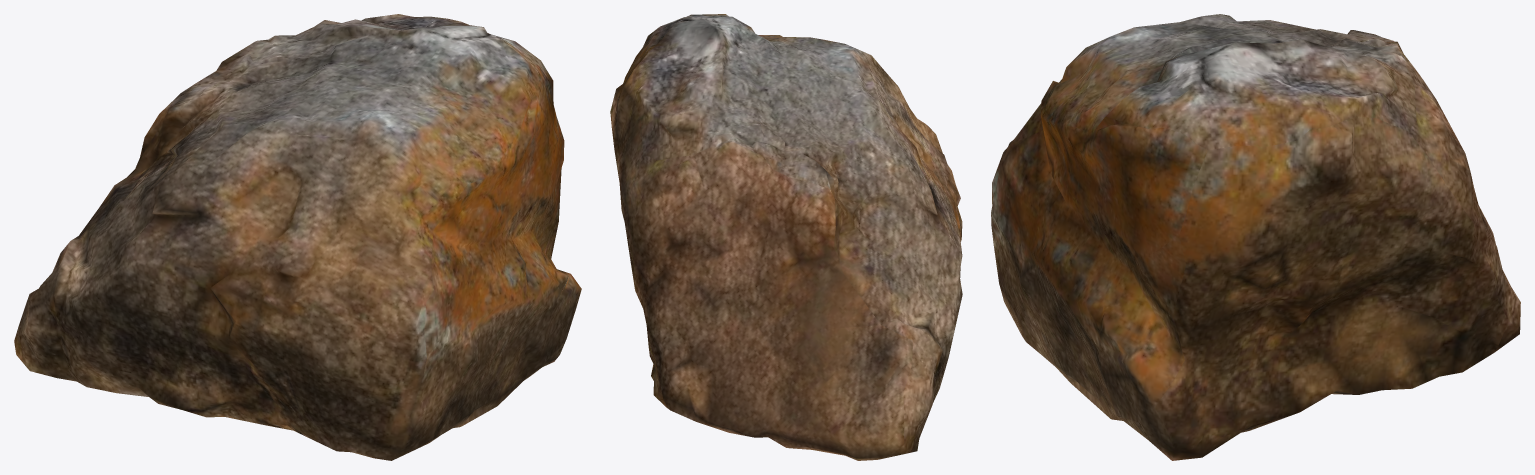
Rendered from boulder_04.glb.
The picture shows the model from 3 angles, left to right: view 1: azimuth 30°, elevation 25°; view 2: azimuth 150°, elevation 25°; view 3: azimuth 270°, elevation 25°; orthographic projection. The views are drawn at different scales.
Parts seen in each view (by area): view 1: boulder_04; view 2: boulder_04; view 3: boulder_04.
Part boxes in pixels (x1,y1,x2,y2): boulder_04: (14,14,581,460); boulder_04: (610,14,962,460); boulder_04: (991,14,1520,460).
Size of the model in its own units: 2.51 by 1.89 by 2.47.
Materials: 1 (1 with a texture image).
